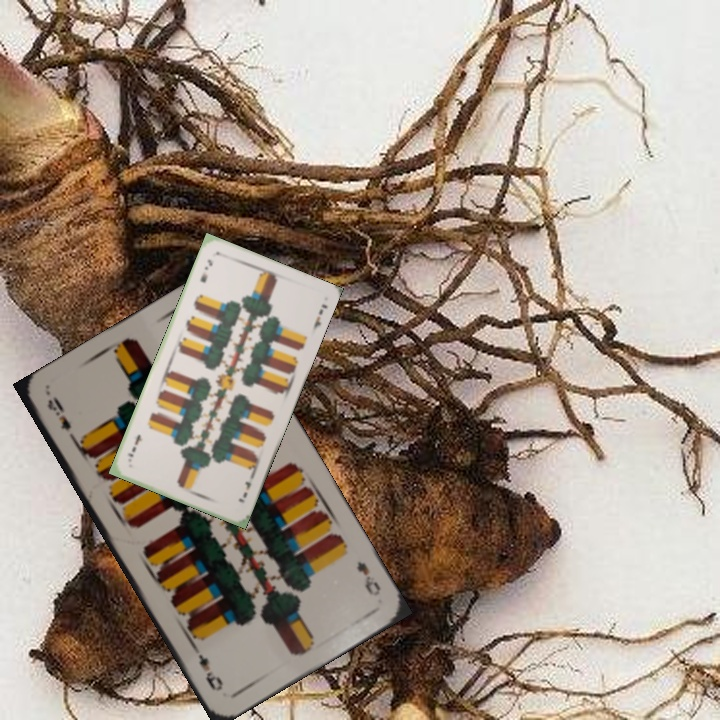E7: (196, 255, 215, 285), (234, 477, 253, 505)
E9: (43, 392, 80, 445), (352, 557, 384, 599)
